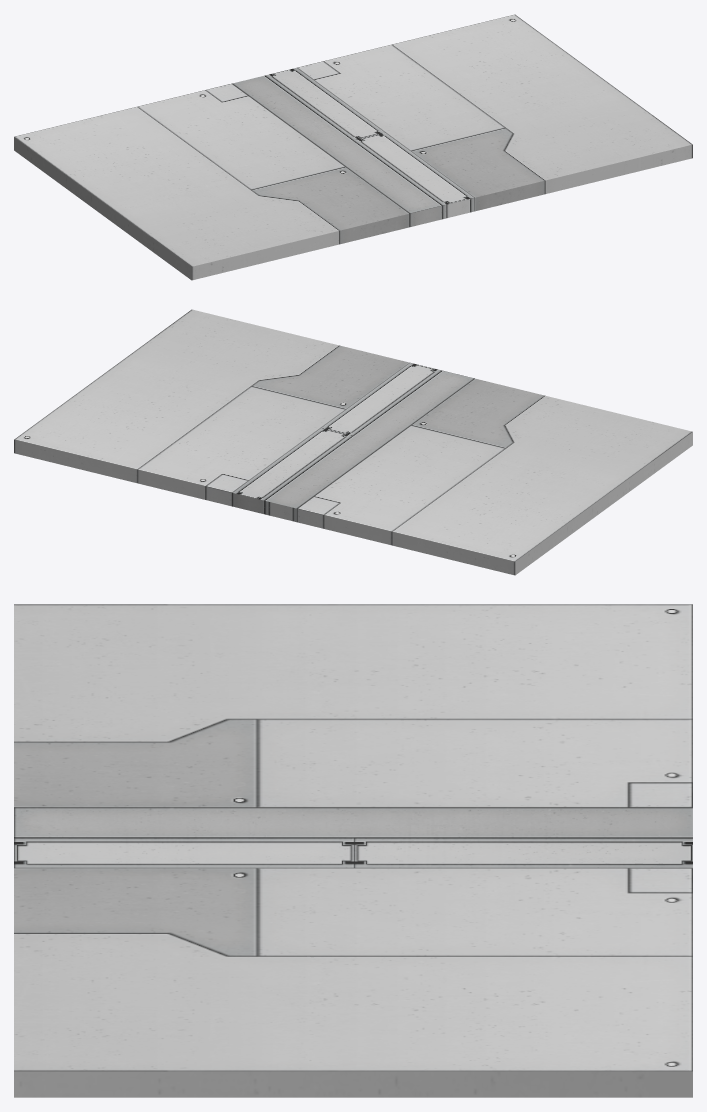
Rendered from Ext_Roof_02.FBX.
3 renders of one model, top to bottom at view 1: azimuth 30°, elevation 25°; view 2: azimuth 150°, elevation 25°; view 3: azimuth 270°, elevation 25°, orthographic. The views are drawn at different scales.
Visible parts, largest first — view 1: Ext_Roof_02; view 2: Ext_Roof_02; view 3: Ext_Roof_02.
Part boxes in pixels (left/top/right/bottom): Ext_Roof_02: left=14, top=14, right=692, bottom=280; Ext_Roof_02: left=14, top=309, right=692, bottom=575; Ext_Roof_02: left=14, top=604, right=692, bottom=1097.
Bounding box in the file's own units: 560 × 14.66 × 344.
